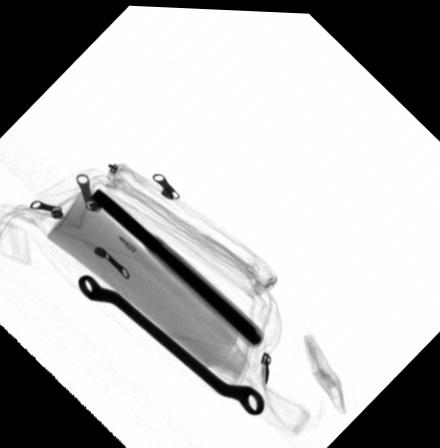Pliers: (89, 187, 262, 346)
Wrench: (77, 274, 265, 415)
